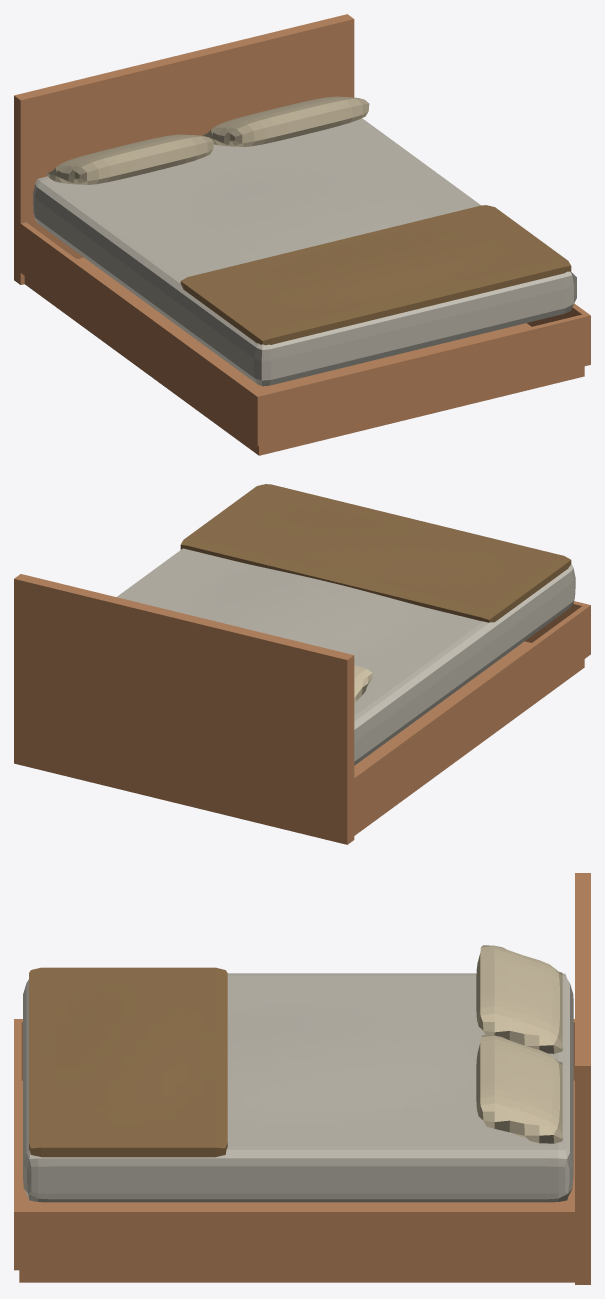
The model's file is CAL-PLT-queen.glb.
The picture shows the model from 3 angles, top to bottom: view 1: azimuth 30°, elevation 25°; view 2: azimuth 150°, elevation 25°; view 3: azimuth 270°, elevation 25°; orthographic projection. The views are drawn at different scales.
Parts seen in each view (by area): view 1: mattress:pbr, head:pbr, throw:pbr, foot:pbr, rail-l:pbr, plinth:pbr, pillow-l:pbr, pillow-r:pbr, rail-r:pbr; view 2: head:pbr, mattress:pbr, throw:pbr, rail-l:pbr, plinth:pbr, pillow-l:pbr; view 3: mattress:pbr, throw:pbr, rail-r:pbr, plinth:pbr, pillow-r:pbr, pillow-l:pbr, head:pbr, foot:pbr.
Boxes of the visible parts, x1=… form: mattress:pbr: x1=33, y1=118, x2=576, y2=386; head:pbr: x1=14, y1=14, x2=354, y2=284; throw:pbr: x1=180, y1=205, x2=571, y2=345; foot:pbr: x1=260, y1=314, x2=585, y2=444; rail-l:pbr: x1=20, y1=222, x2=262, y2=445; plinth:pbr: x1=24, y1=257, x2=584, y2=455; pillow-l:pbr: x1=46, y1=134, x2=213, y2=184; pillow-r:pbr: x1=202, y1=96, x2=369, y2=146; rail-r:pbr: x1=527, y1=303, x2=590, y2=365; head:pbr: x1=14, y1=574, x2=354, y2=844; mattress:pbr: x1=116, y1=548, x2=575, y2=765; throw:pbr: x1=180, y1=484, x2=571, y2=622; rail-l:pbr: x1=354, y1=604, x2=590, y2=827; plinth:pbr: x1=354, y1=641, x2=584, y2=835; pillow-l:pbr: x1=354, y1=665, x2=372, y2=702; mattress:pbr: x1=23, y1=973, x2=573, y2=1202; throw:pbr: x1=29, y1=967, x2=227, y2=1157; rail-r:pbr: x1=14, y1=1208, x2=574, y2=1270; plinth:pbr: x1=19, y1=1080, x2=574, y2=1282; pillow-r:pbr: x1=476, y1=1035, x2=562, y2=1143; pillow-l:pbr: x1=476, y1=945, x2=562, y2=1053; head:pbr: x1=575, y1=873, x2=590, y2=1284; foot:pbr: x1=14, y1=1022, x2=21, y2=1208.
Bounding box in the file's own units: 1.7 × 0.9 × 2.15.
